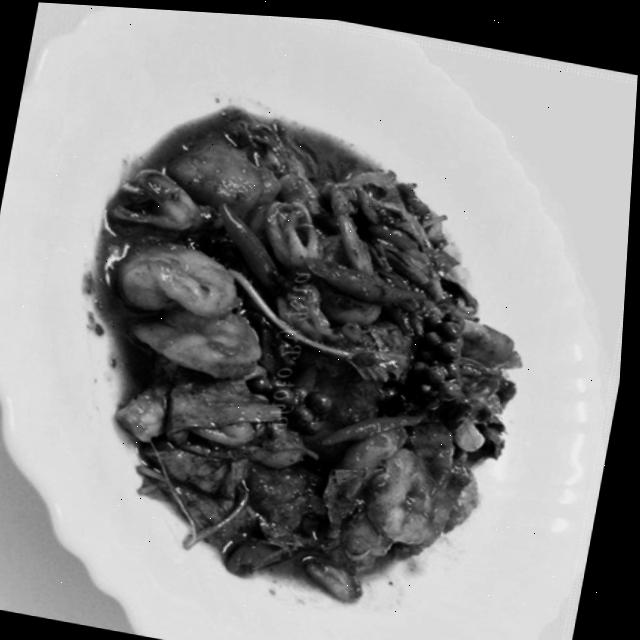牛肉菜式: (20, 54, 583, 640)
